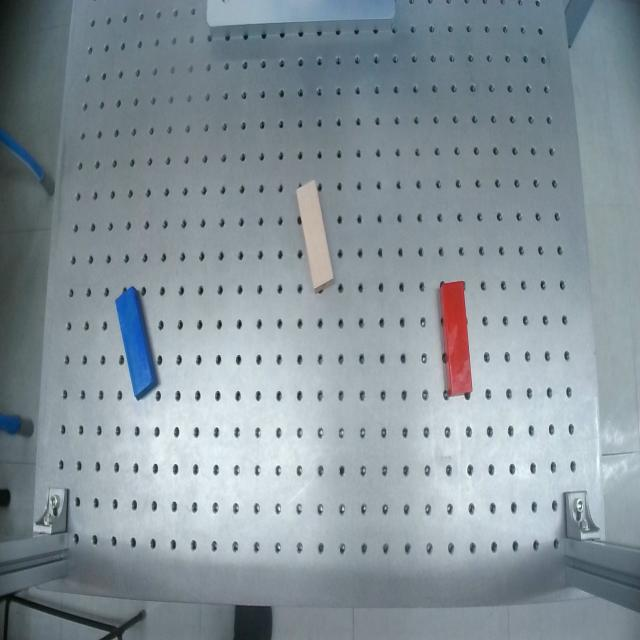blue: (112, 285, 161, 401)
red: (438, 281, 472, 397)
wood: (293, 180, 337, 294)
